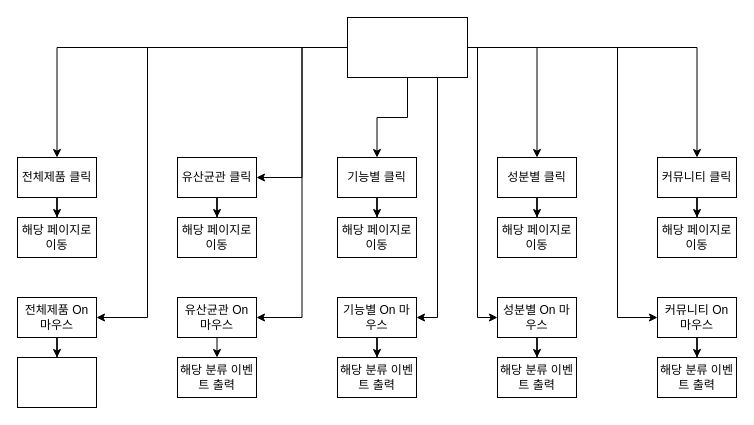
This 754x425 diagram has some shape labels left out. The shapes that lost their labels are listed below. From the top down, each one's centre as x and y in pixels, then its label:
the point at 407,47: 메인 페이지
the point at 56,382: 모든 분류 모두 이벤트 출력
